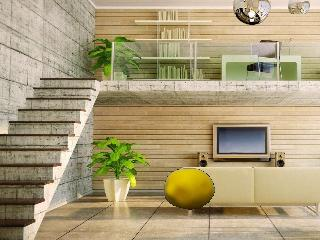lemon: (165, 168, 215, 209)
